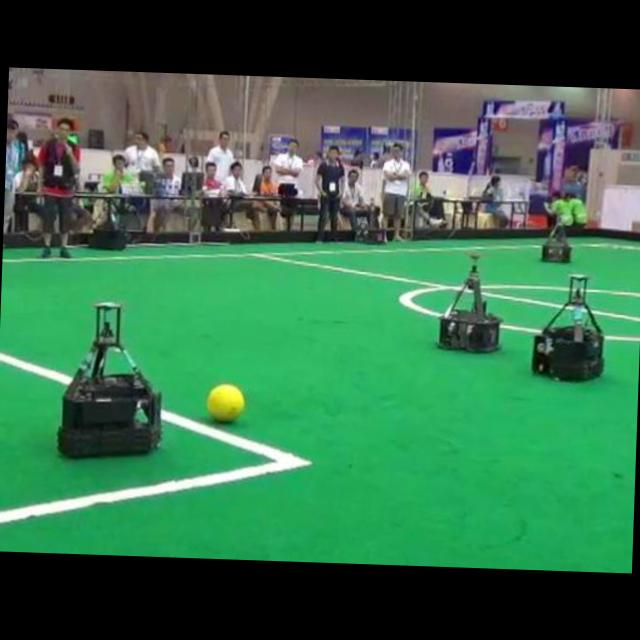ball: (206, 383, 244, 421)
robot: (57, 302, 160, 455), (532, 274, 602, 380), (437, 253, 499, 351), (541, 222, 571, 262)
